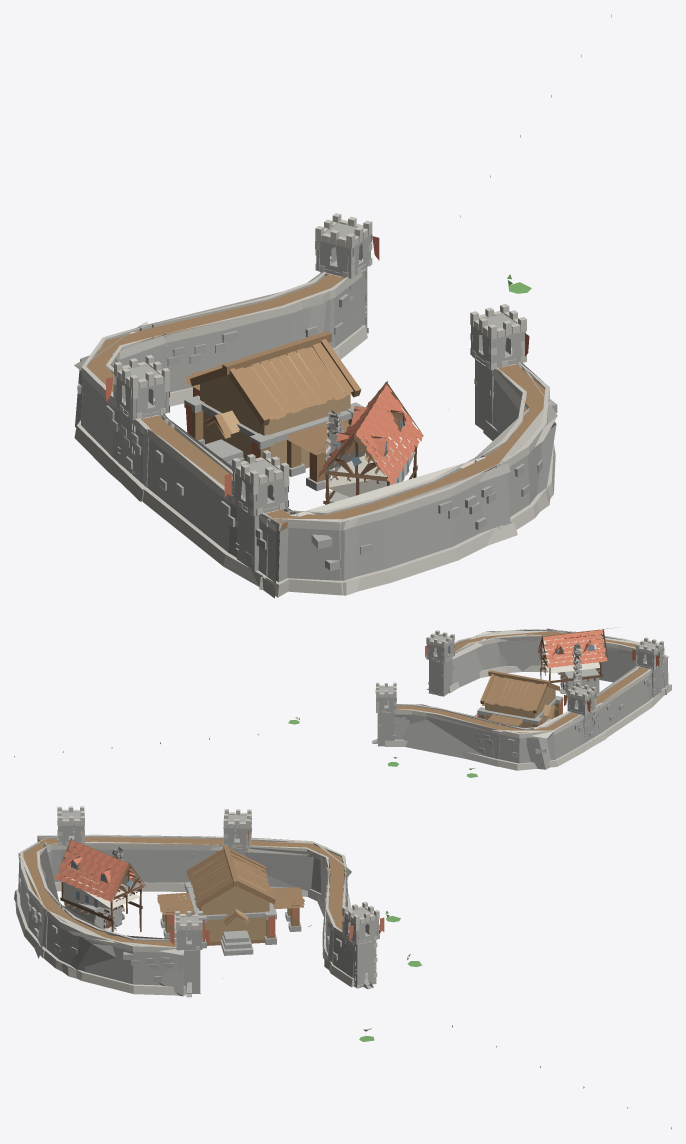
File: chunk_0_0_lod1.glb
3 renders of one model, top to bottom at view 1: azimuth 30°, elevation 25°; view 2: azimuth 150°, elevation 25°; view 3: azimuth 270°, elevation 25°, orthographic. The views are drawn at different scales.
Visible parts, largest first — view 1: Batched_Chunk_0_0.001; view 2: Batched_Chunk_0_0.001; view 3: Batched_Chunk_0_0.001.
Boxes of the visible parts, <box> form: Batched_Chunk_0_0.001: <box>74,15,611,598</box>; Batched_Chunk_0_0.001: <box>14,627,671,777</box>; Batched_Chunk_0_0.001: <box>14,806,671,1128</box>.
Bounding box in the file's own units: 103 × 13.93 × 108.
